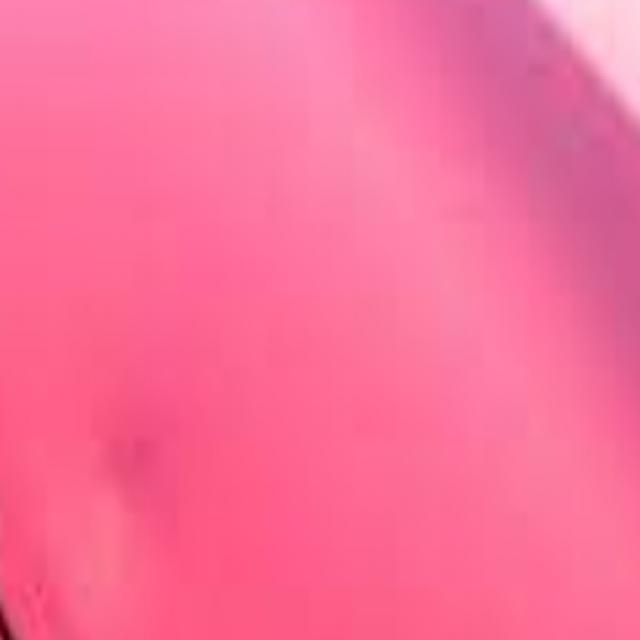dents: (27, 401, 180, 640)
